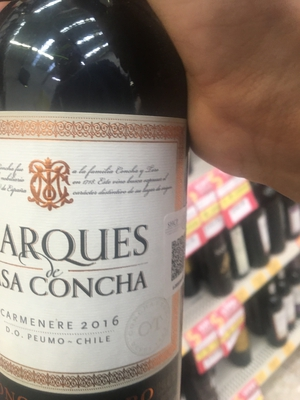marques de casa concha carmenere: (1, 20, 212, 400)
